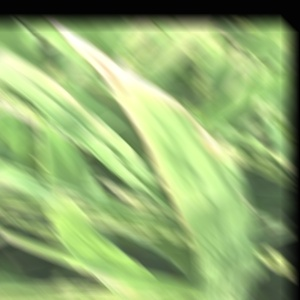Leaf_Blast: (124, 38, 218, 276)
